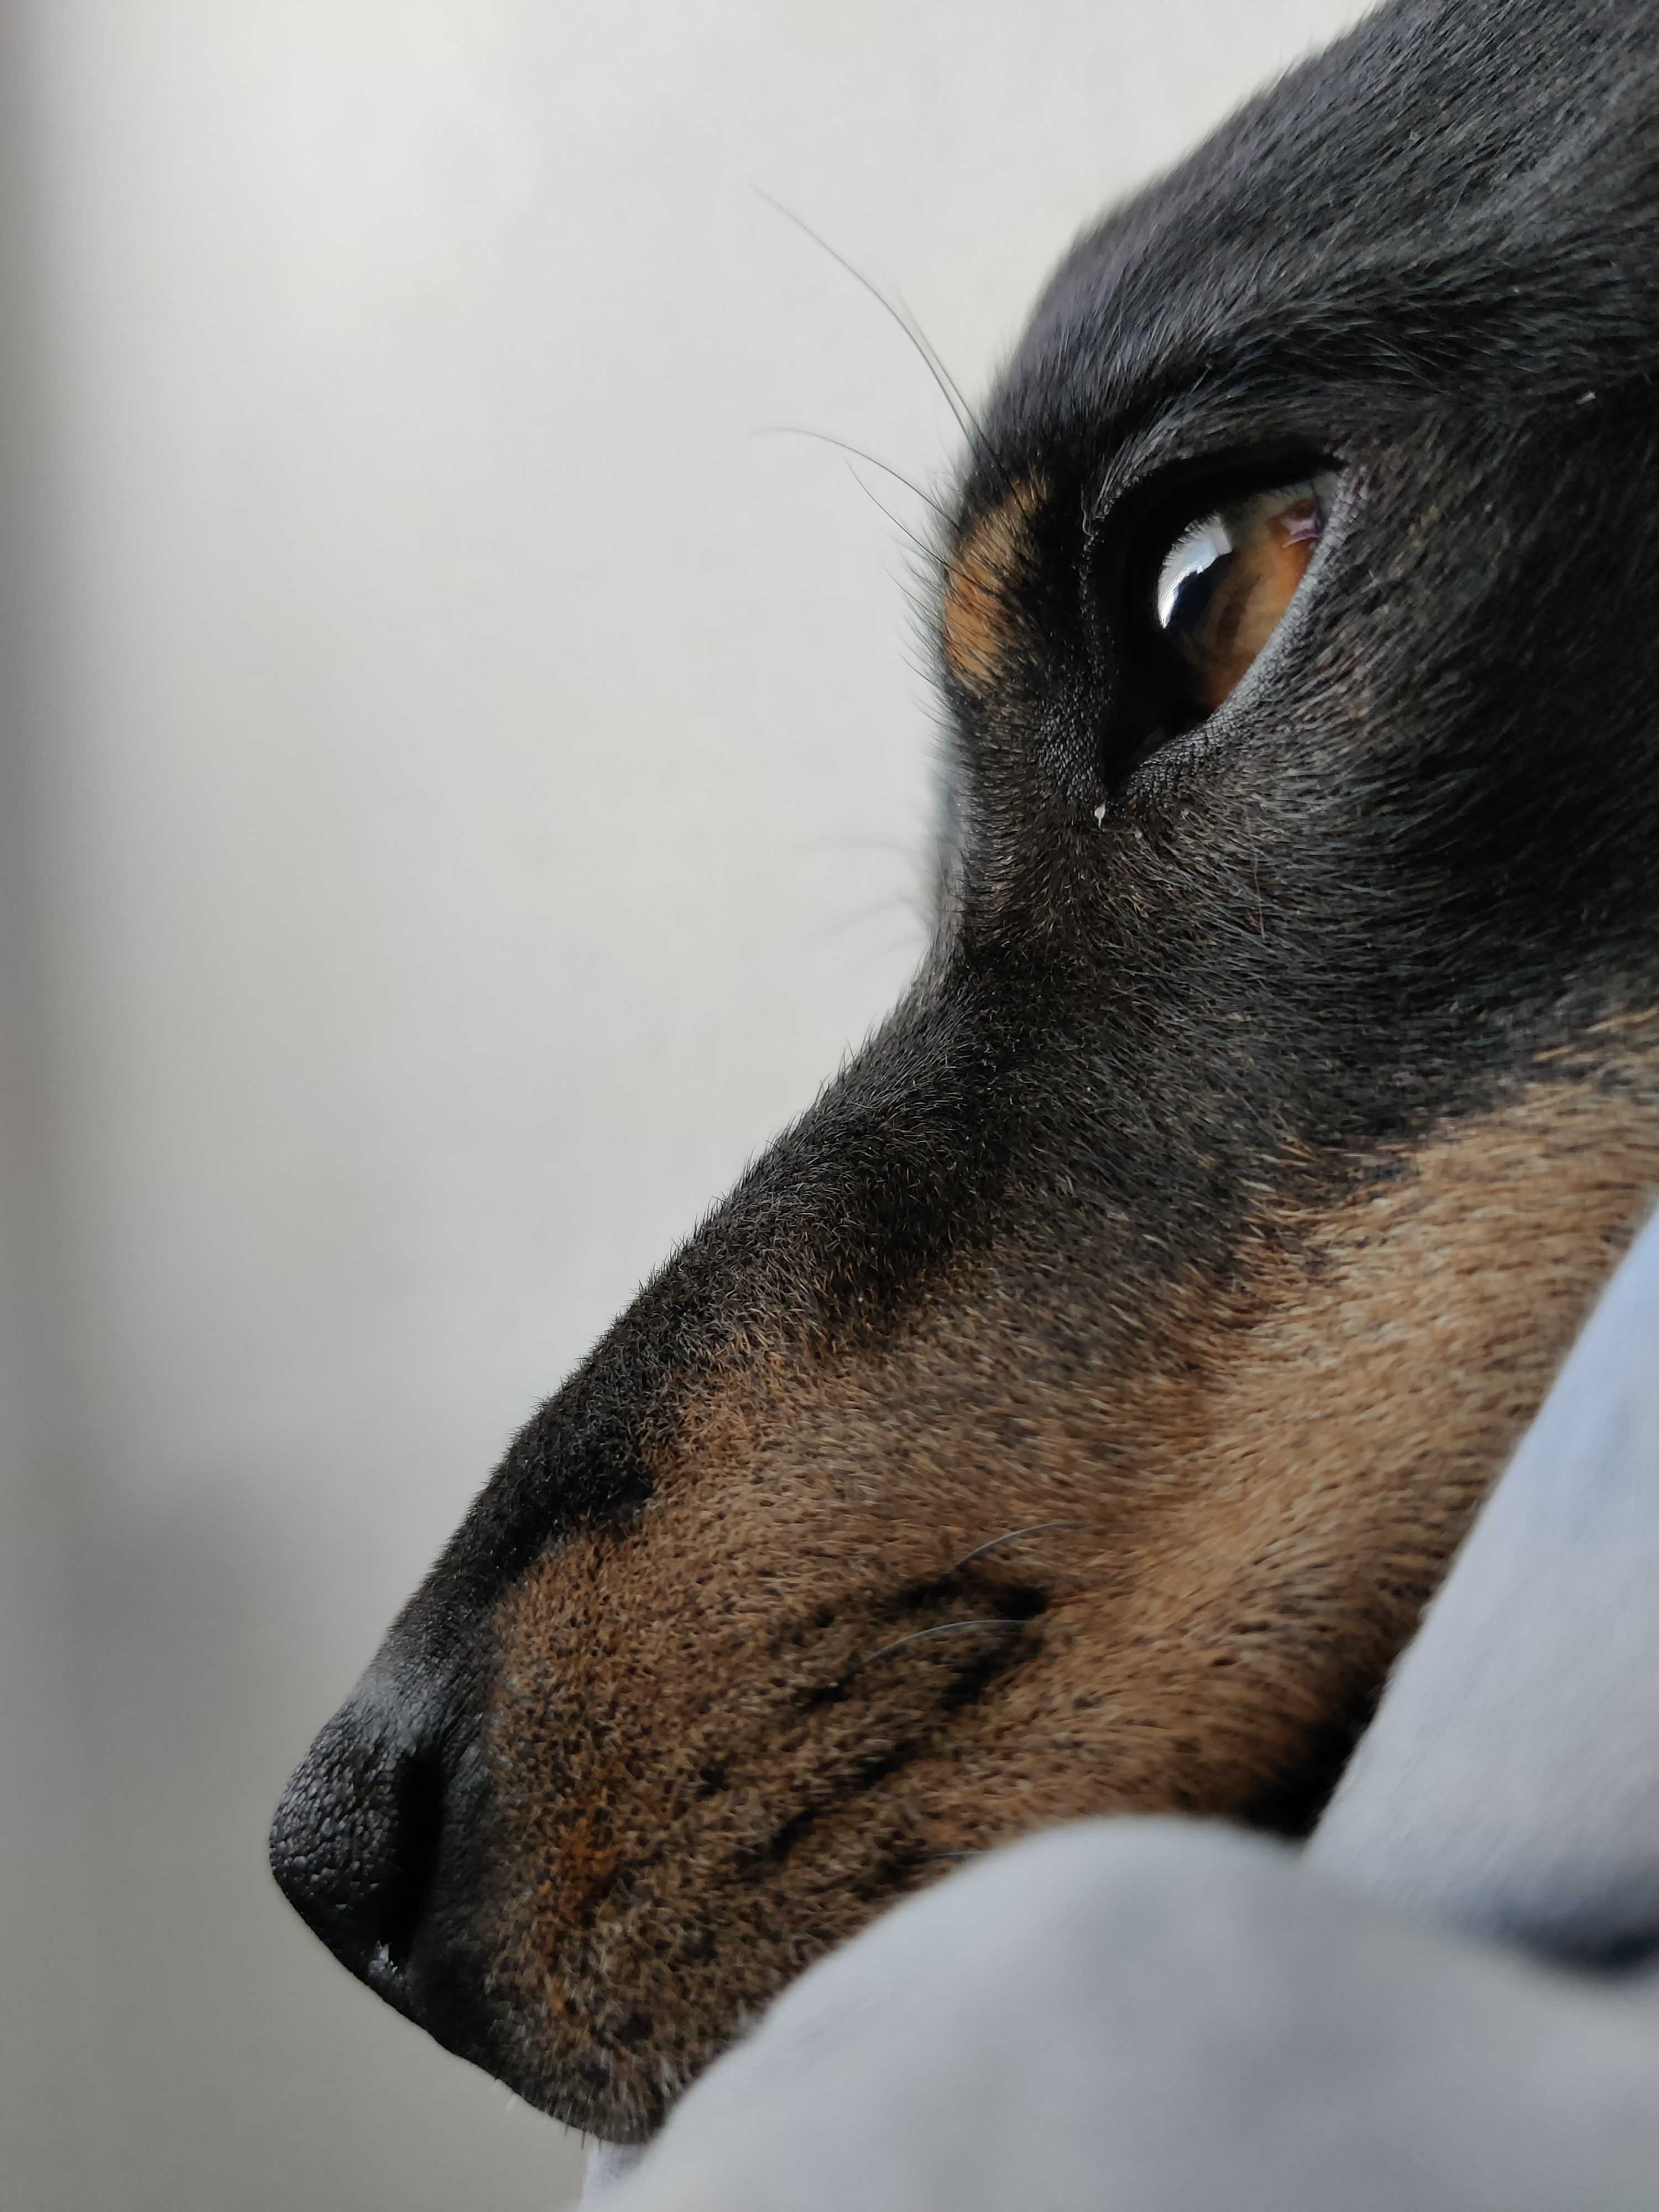Dog: (242, 0, 1659, 2148)
